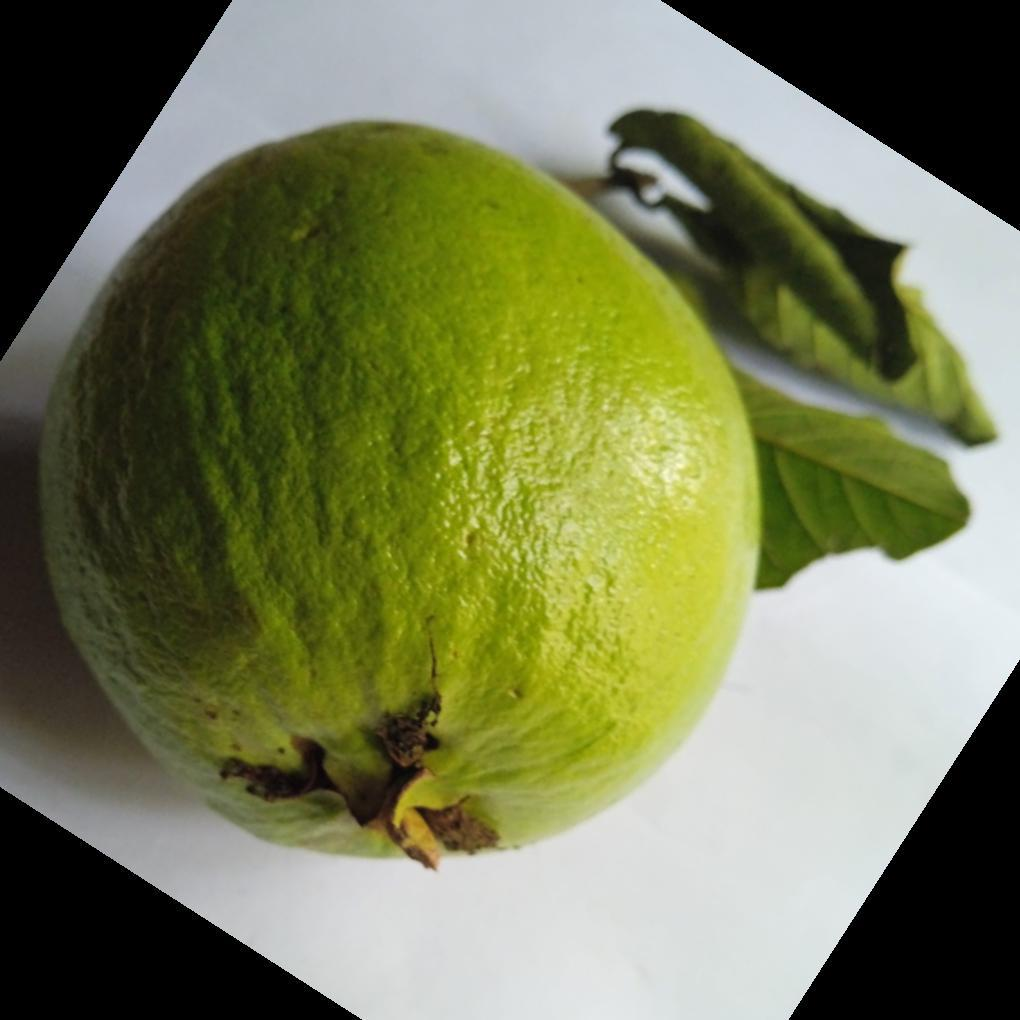FreshGuava: (36, 121, 765, 873)
